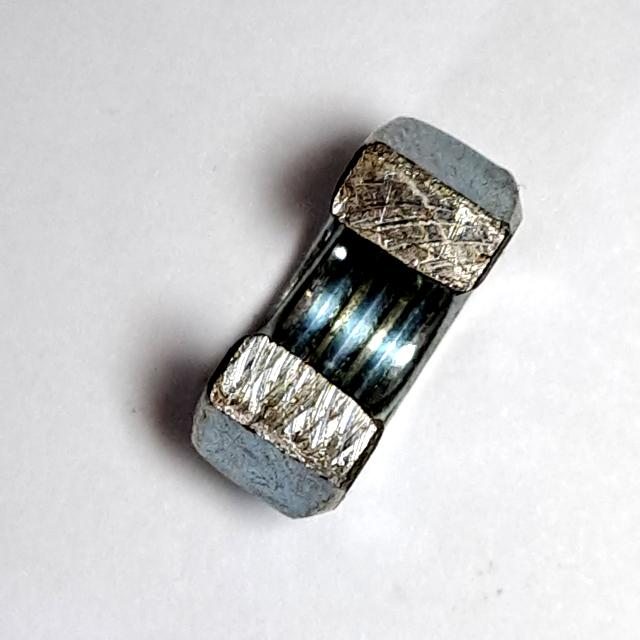Side-Fracture: (179, 107, 530, 535)
